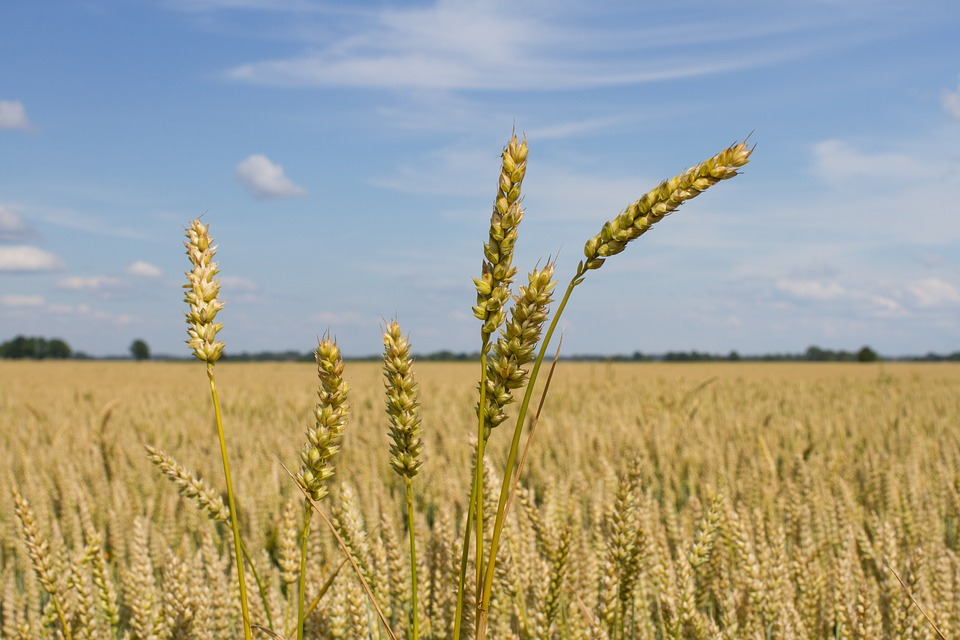Wheat: (174, 382, 781, 640)
